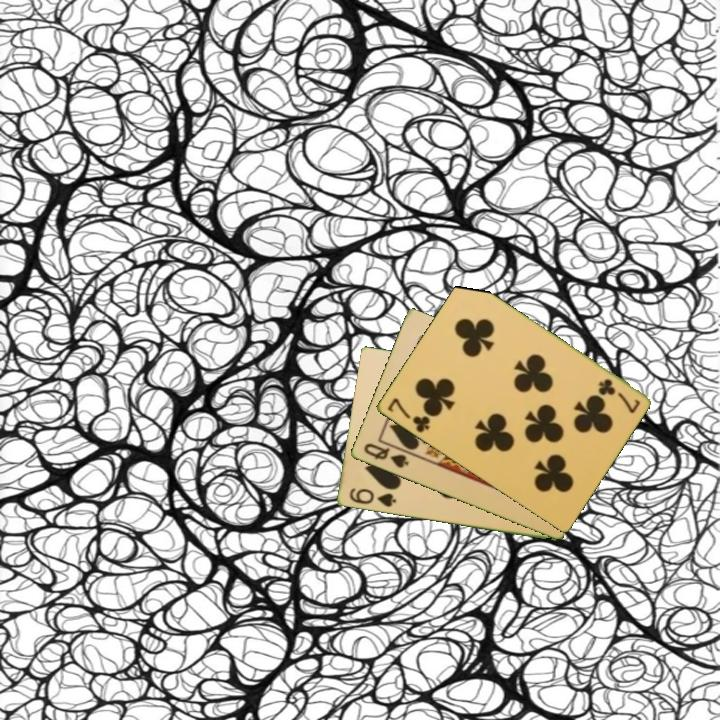6s: (345, 485, 399, 510)
7c: (383, 394, 433, 436), (594, 375, 643, 416)
Qs: (360, 439, 411, 471)
